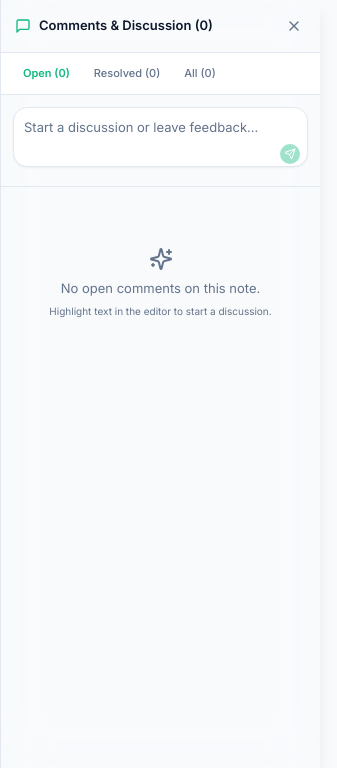
Collaborative Space Features › InlineComments Component › creates a new comment and displays it in the thread
Type "This is a collaborative inline comment." into the text box with placeholder "Start a discussion or leave feedback..." at [160, 137], box left=13, top=107, right=308, bottom=167
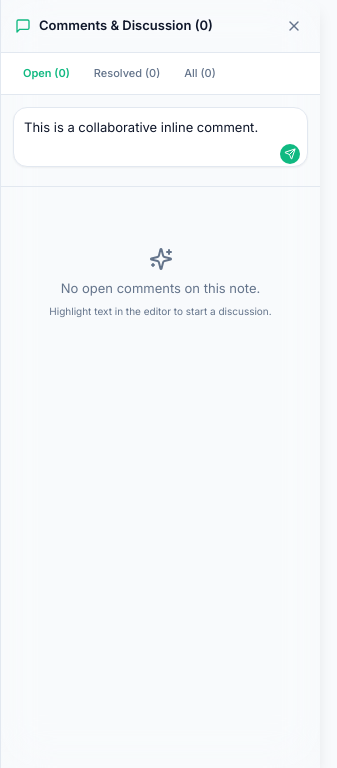
Click the button titled "post comment" at [290, 154], box left=280, top=144, right=300, bottom=164
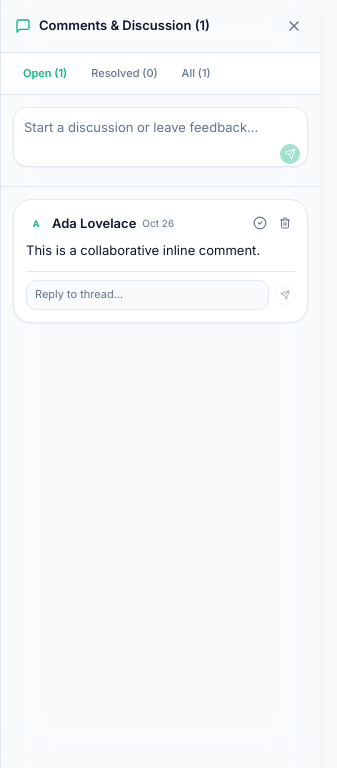
Expected: the text "This is a collaborative inline comment." is shown, left=26, top=240, right=295, bottom=261
